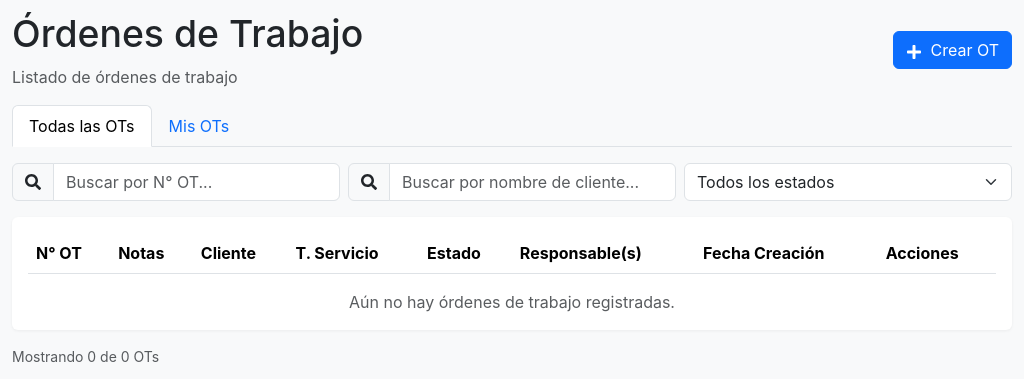
OTsPage — tabs (Todas las OTs / Mis OTs) › shows the "Mis OTs" empty state copy when the tab has no rows
The width and height of the screenshot is (1024, 379).
Click the tab "Mis OTs" at coordinates (199, 126), box [152,105,246,147]
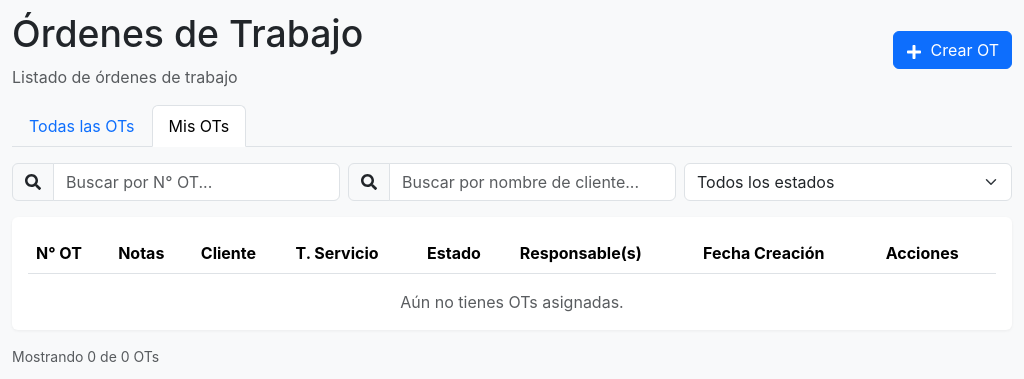
Now the text "Aún no tienes OTs asignadas." is shown, box [400,292,624,312]
